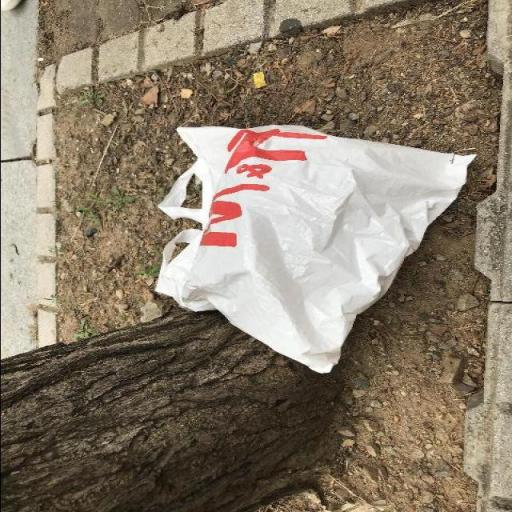plastic-bag: (150, 122, 480, 376)
